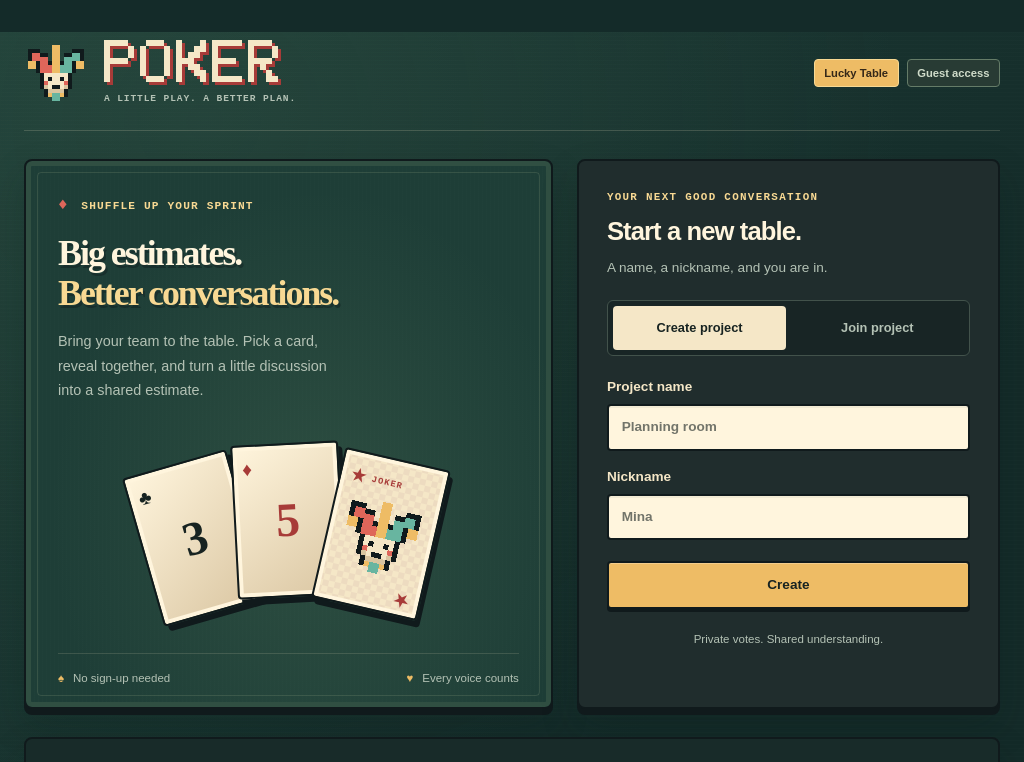
Test: HomePage › uses the form controls expected by the end-to-end helpers
Type "Sprint 24" into the field labelled "Project name" at (788, 427), box [607,404,970,451]
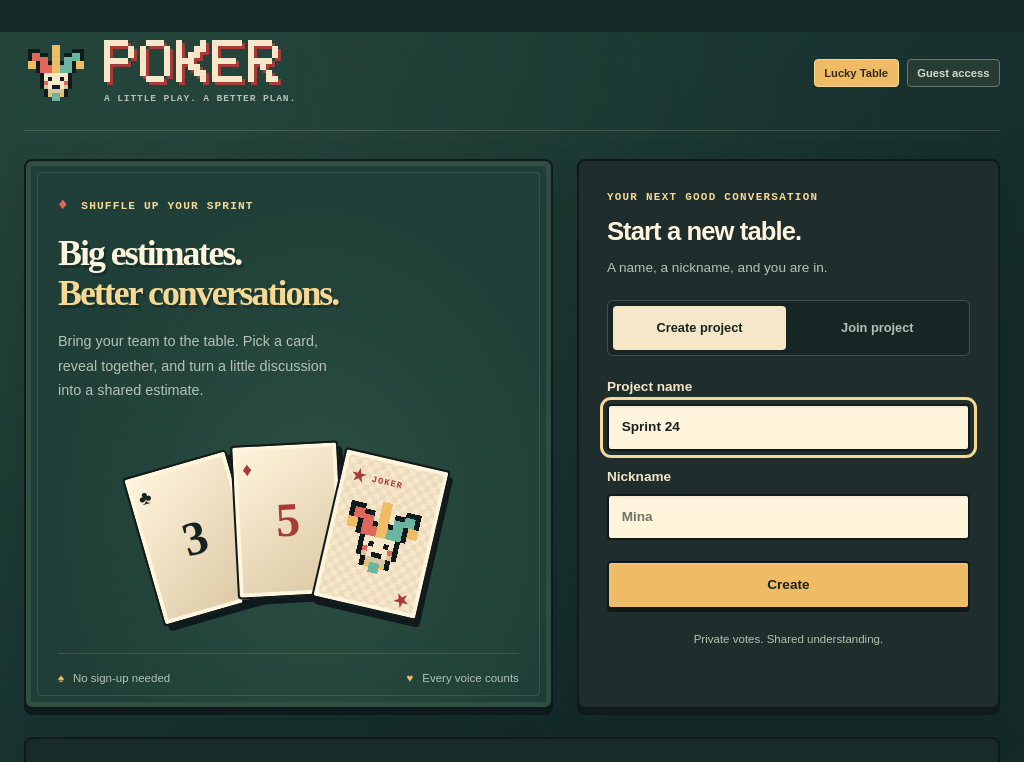
Type "Host" into the field labelled "Nickname" at (788, 517), box [607,494,970,540]
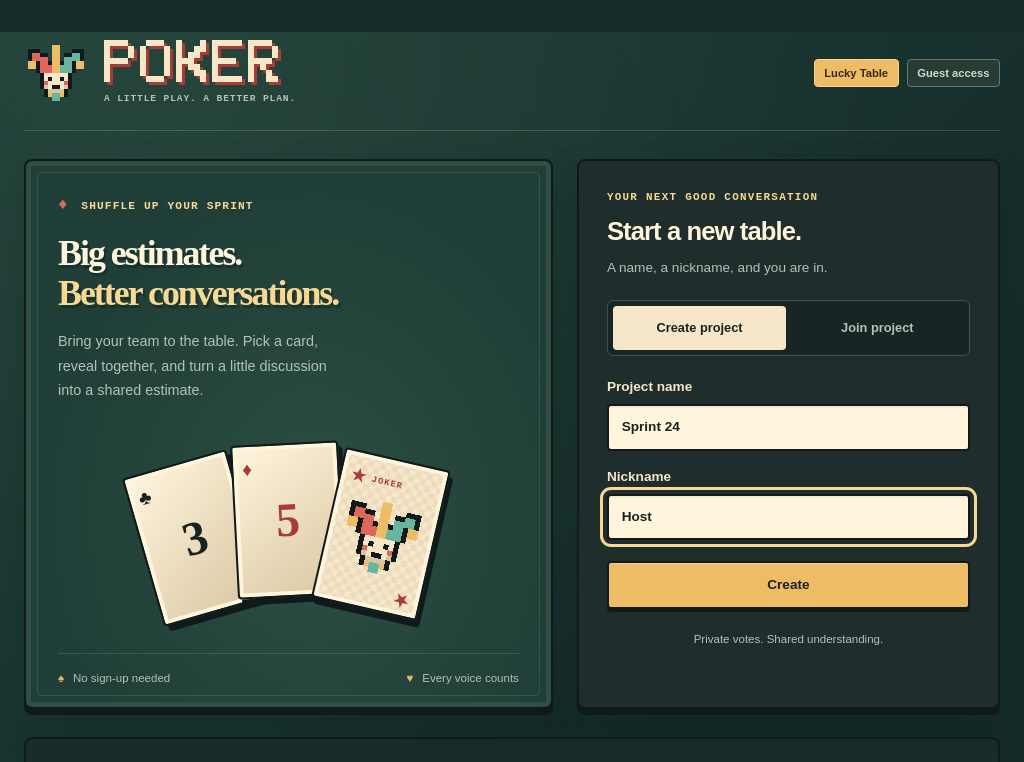
Click the button "Join project" at (877, 328), box [790,306,964,350]
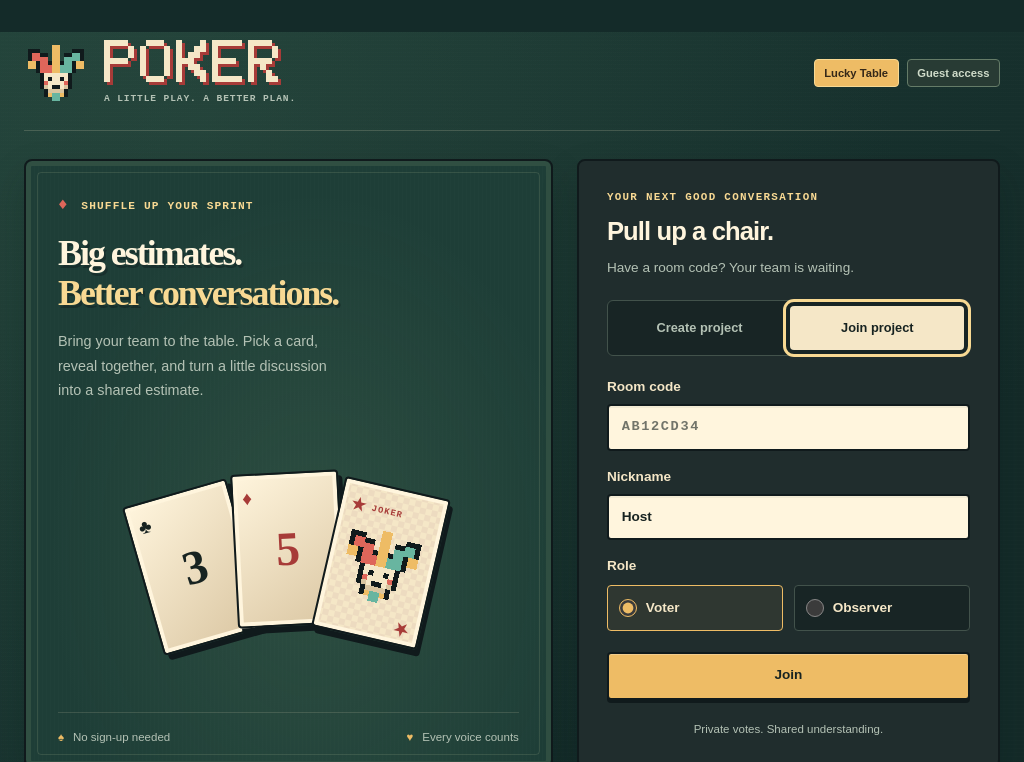
Expected: the field labelled "Room code" is shown, [607,404,970,451]
Now the radio button labelled "Voter" is shown, box [619,599,637,617]
Now the radio button labelled "Observer" is shown, box [806,599,824,617]
